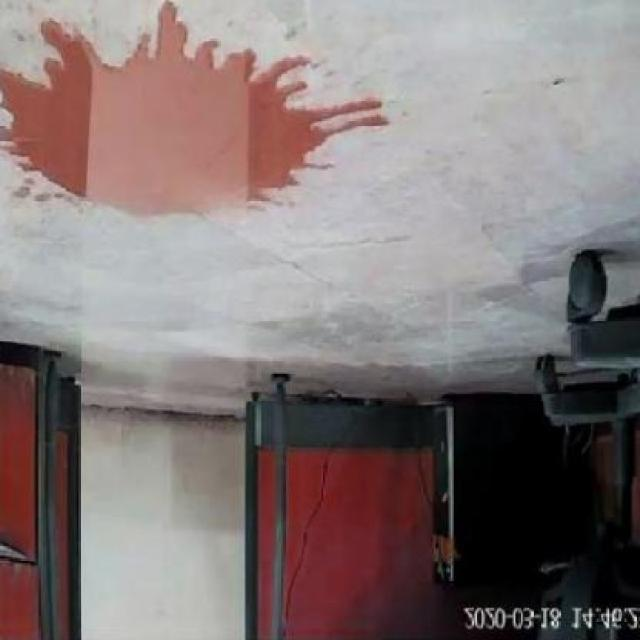spillage: (0, 1, 381, 215)
